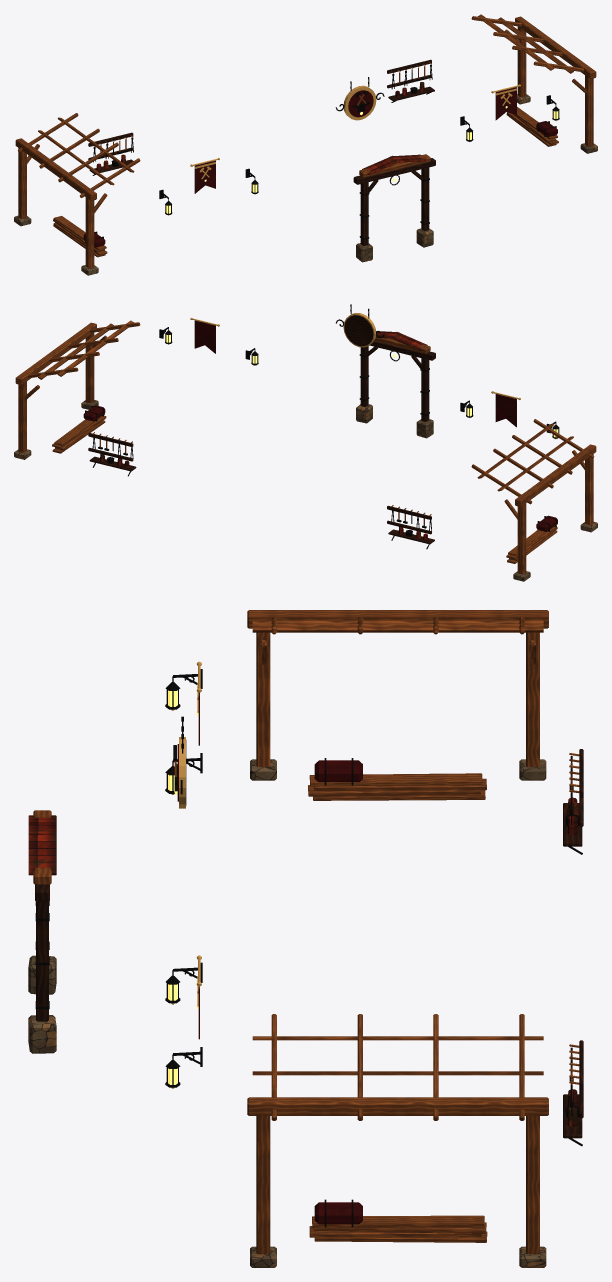
File: forge_detail_kit.glb
3 views of the same model, one above another, from view 1: azimuth 30°, elevation 25°; view 2: azimuth 150°, elevation 25°; view 3: azimuth 270°, elevation 25° (orthographic). The views are drawn at different scales.
Visible parts, largest first — view 1: Kit_ExpansionFrame_West, Kit_ExpansionFrame_East, Kit_EntryArch, Kit_ForgeCrest, Kit_ToolRack_East, Kit_ToolRack_West, Kit_Banner_East, Kit_Banner_West; view 2: Kit_ExpansionFrame_West, Kit_ExpansionFrame_East, Kit_EntryArch, Kit_ForgeCrest, Kit_ToolRack_East, Kit_ToolRack_West, Kit_Banner_East, Kit_Banner_West; view 3: Kit_ExpansionFrame_East, Kit_ExpansionFrame_West, Kit_EntryArch, Kit_ToolRack_East, Kit_ToolRack_West, Kit_ForgeCrest.
Boxes of the visible parts, left/top/right/bottom form: Kit_ExpansionFrame_West: left=14, top=113, right=140, bottom=275; Kit_ExpansionFrame_East: left=471, top=14, right=597, bottom=153; Kit_EntryArch: left=353, top=154, right=435, bottom=262; Kit_ForgeCrest: left=335, top=77, right=384, bottom=120; Kit_ToolRack_East: left=387, top=59, right=434, bottom=102; Kit_ToolRack_West: left=88, top=132, right=133, bottom=175; Kit_Banner_East: left=491, top=84, right=520, bottom=120; Kit_Banner_West: left=190, top=158, right=219, bottom=193; Kit_ExpansionFrame_West: left=471, top=419, right=597, bottom=581; Kit_ExpansionFrame_East: left=14, top=320, right=140, bottom=459; Kit_EntryArch: left=356, top=331, right=435, bottom=438; Kit_ForgeCrest: left=336, top=304, right=384, bottom=347; Kit_ToolRack_East: left=88, top=432, right=136, bottom=476; Kit_ToolRack_West: left=387, top=505, right=434, bottom=549; Kit_Banner_East: left=190, top=317, right=219, bottom=353; Kit_Banner_West: left=491, top=391, right=520, bottom=427; Kit_ExpansionFrame_East: left=247, top=1014, right=548, bottom=1267; Kit_ExpansionFrame_West: left=247, top=610, right=548, bottom=800; Kit_EntryArch: left=28, top=810, right=56, bottom=1053; Kit_ToolRack_East: left=563, top=1040, right=583, bottom=1146; Kit_ToolRack_West: left=563, top=749, right=583, bottom=854; Kit_ForgeCrest: left=173, top=716, right=186, bottom=808.
Size of the model in its own units: 22.03 by 6.02 by 10.3.
8 materials, 6 textured.
